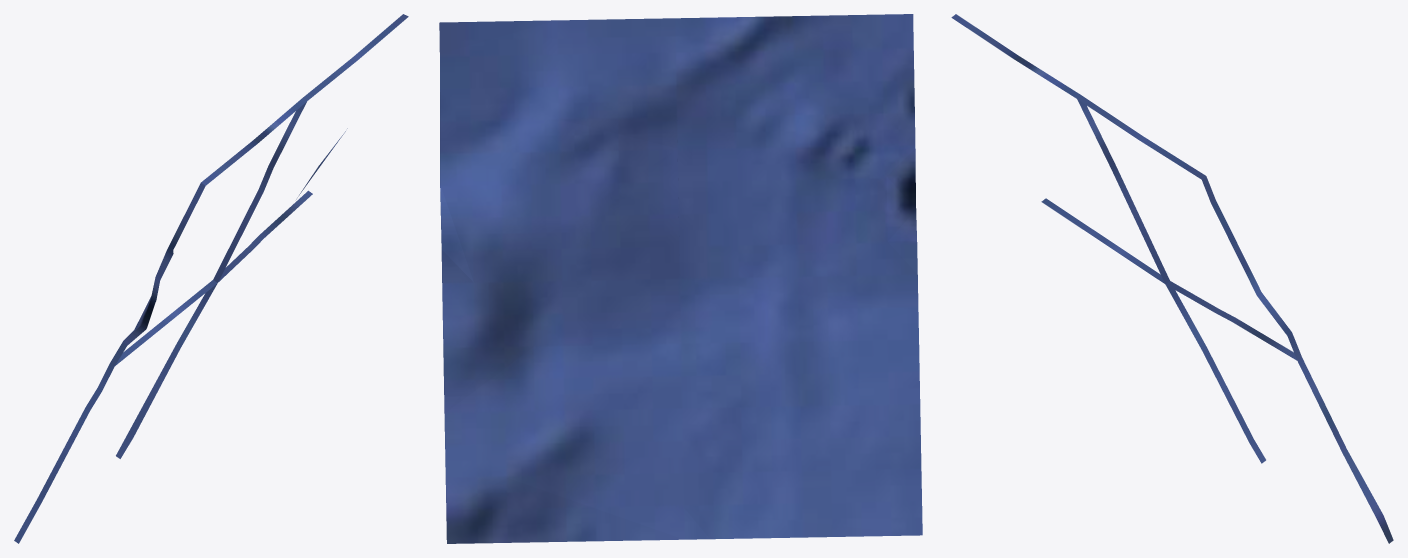
The picture shows the model from 3 angles, left to right: view 1: azimuth 30°, elevation 25°; view 2: azimuth 150°, elevation 25°; view 3: azimuth 270°, elevation 25°; orthographic projection. The views are drawn at different scales.
Size of the model in its own units: 19687 by 17852 by 17108.
Materials: 1 (1 with a texture image).
